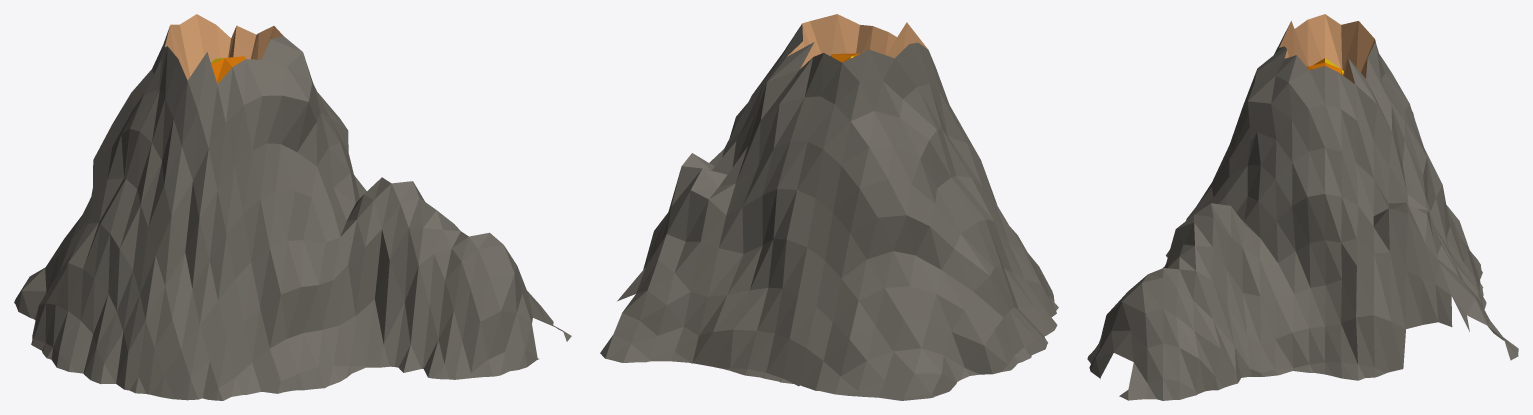
File: CaveStage3.fbx
The picture shows the model from 3 angles, left to right: view 1: azimuth 30°, elevation 25°; view 2: azimuth 150°, elevation 25°; view 3: azimuth 270°, elevation 25°; orthographic projection. The views are drawn at different scales.
Parts seen in each view (by area): view 1: Mountain_Volcano_01.001; view 2: Mountain_Volcano_01.001; view 3: Mountain_Volcano_01.001.
Boxes of the visible parts, <box> form: Mountain_Volcano_01.001: <box>14,14,571,400</box>; Mountain_Volcano_01.001: <box>600,14,1058,400</box>; Mountain_Volcano_01.001: <box>1087,14,1518,400</box>.
Size of the model in its own units: 2177 by 1420 by 2138.
